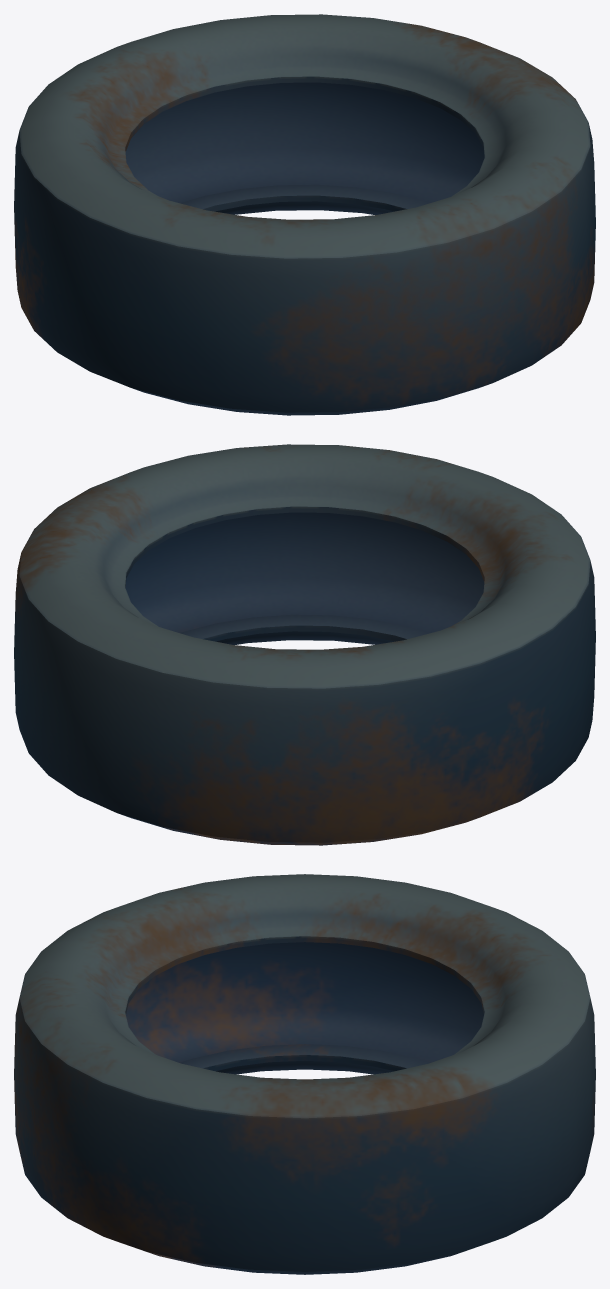
File: Tire.glb
3 views of the same model, one above another, from view 1: azimuth 30°, elevation 25°; view 2: azimuth 150°, elevation 25°; view 3: azimuth 270°, elevation 25° (orthographic).
Visible parts, largest first — view 1: Car_Tire_01; view 2: Car_Tire_01; view 3: Car_Tire_01.
Part boxes in pixels (x1,y1,x2,y2): Car_Tire_01: (14,14,595,415); Car_Tire_01: (14,444,595,845); Car_Tire_01: (14,874,595,1274).
Size of the model in its own units: 0.6868 by 0.2362 by 0.6868.
1 material, 1 textured.
